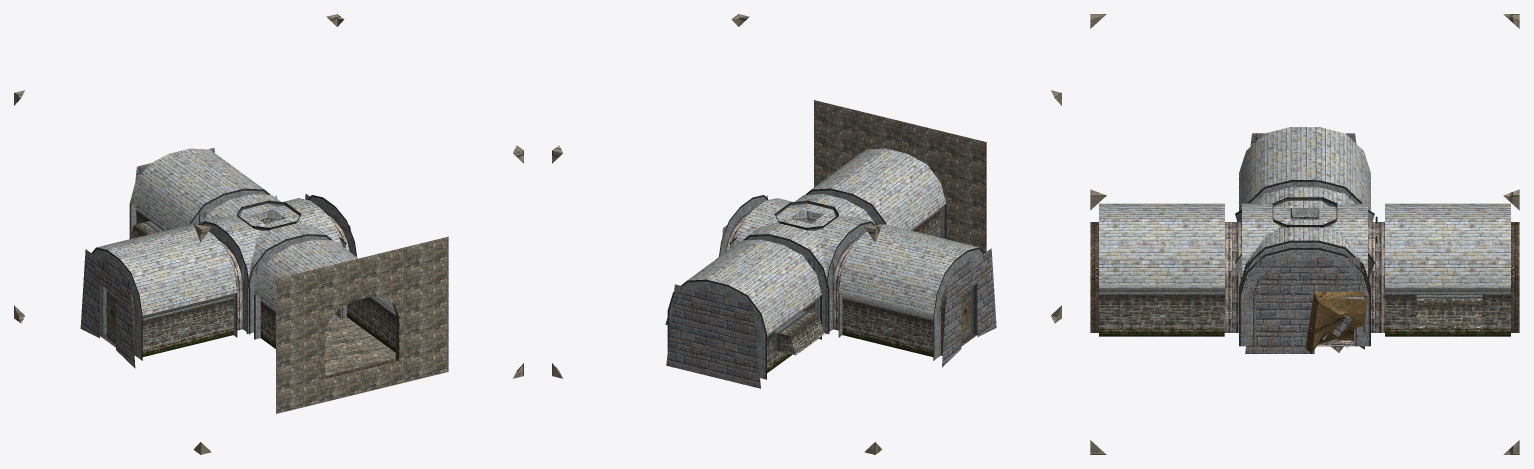
The model's file is lbg_1e.glb.
3 renders of one model, left to right at view 1: azimuth 30°, elevation 25°; view 2: azimuth 150°, elevation 25°; view 3: azimuth 270°, elevation 25°, orthographic. The views are drawn at different scales.
Visible parts, largest first — view 1: lbg_1e-col; view 2: lbg_1e-col; view 3: lbg_1e-col.
Boxes of the visible parts, box(x1,y1,x2,y2) form: lbg_1e-col: box(14, 14, 523, 454); lbg_1e-col: box(552, 14, 1061, 454); lbg_1e-col: box(1090, 14, 1519, 454).
Bounding box in the file's own units: 15 × 10 × 15.
Materials: 13 (13 with a texture image).
